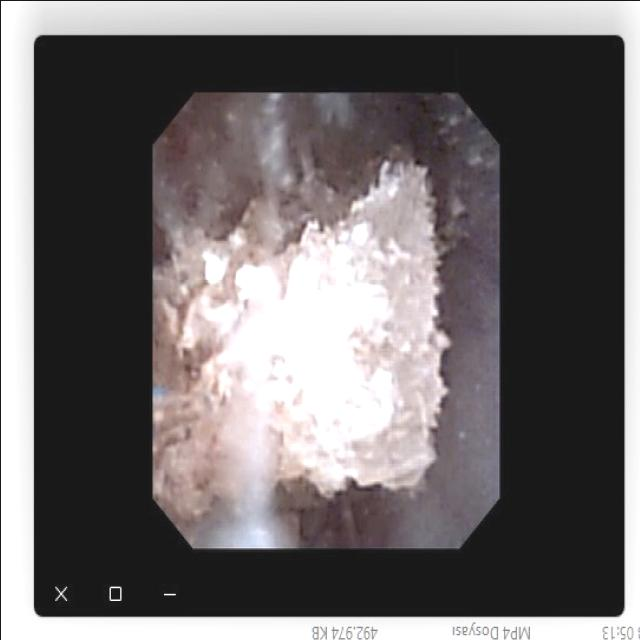stone: (158, 168, 443, 536)
